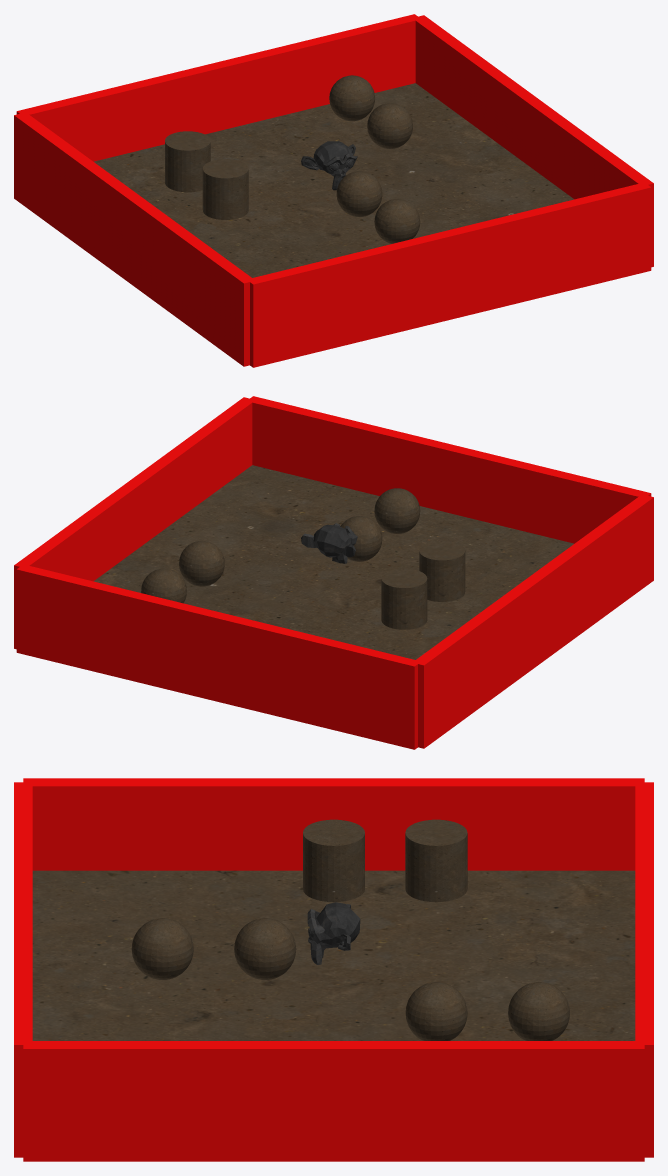
The model's file is texturetest.glb.
3 views of the same model, one above another, from view 1: azimuth 30°, elevation 25°; view 2: azimuth 150°, elevation 25°; view 3: azimuth 270°, elevation 25° (orthographic). The views are drawn at different scales.
Visible parts, largest first — view 1: Plane, WallSouth, WallTop, WallWest, WallEast, Cylinder, Cylinder.001, Sphere.002, Sphere.003, Sphere, Sphere.001, suzanne; view 2: Plane, WallTop, WallSouth, WallWest, WallEast, Cylinder.001, Cylinder, Sphere.001, Sphere, suzanne, Sphere.003, Sphere.002; view 3: Plane, WallEast, WallWest, WallSouth, WallTop, Cylinder.001, Cylinder, Sphere.001, Sphere.003, Sphere, Sphere.002, suzanne.
Boxes of the visible parts, <box> form: Plane: <box>94,83,574,277</box>; WallSouth: <box>250,182,651,367</box>; WallTop: <box>16,14,418,161</box>; WallWest: <box>14,112,255,366</box>; WallEast: <box>412,15,653,267</box>; Cylinder: <box>202,159,248,219</box>; Cylinder.001: <box>165,131,210,192</box>; Sphere.002: <box>329,75,374,121</box>; Sphere.003: <box>336,171,382,216</box>; Sphere: <box>367,103,412,148</box>; Sphere.001: <box>374,199,420,243</box>; suzanne: <box>301,141,357,190</box>; Plane: <box>93,465,573,659</box>; WallTop: <box>16,564,421,749</box>; WallSouth: <box>249,396,651,543</box>; WallWest: <box>412,494,653,748</box>; WallEast: <box>14,397,255,649</box>; Cylinder.001: <box>381,568,427,629</box>; Cylinder: <box>419,541,465,601</box>; Sphere.001: <box>374,488,420,533</box>; Sphere: <box>179,540,224,586</box>; suzanne: <box>301,523,357,563</box>; Sphere.003: <box>340,516,382,561</box>; Sphere.002: <box>141,568,186,603</box>; Plane: <box>32,870,635,1040</box>; WallEast: <box>23,1041,644,1161</box>; WallWest: <box>23,778,644,870</box>; WallSouth: <box>14,782,32,1157</box>; WallTop: <box>635,782,653,1157</box>; Cylinder.001: <box>405,819,467,902</box>; Cylinder: <box>303,819,364,902</box>; Sphere.001: <box>131,918,193,979</box>; Sphere.003: <box>234,918,296,979</box>; Sphere: <box>405,982,467,1040</box>; Sphere.002: <box>508,982,569,1040</box>; suzanne: <box>307,902,360,964</box>.
Bounding box in the file's own units: 20.6 × 4.34 × 20.6.
3 materials, 2 textured.
